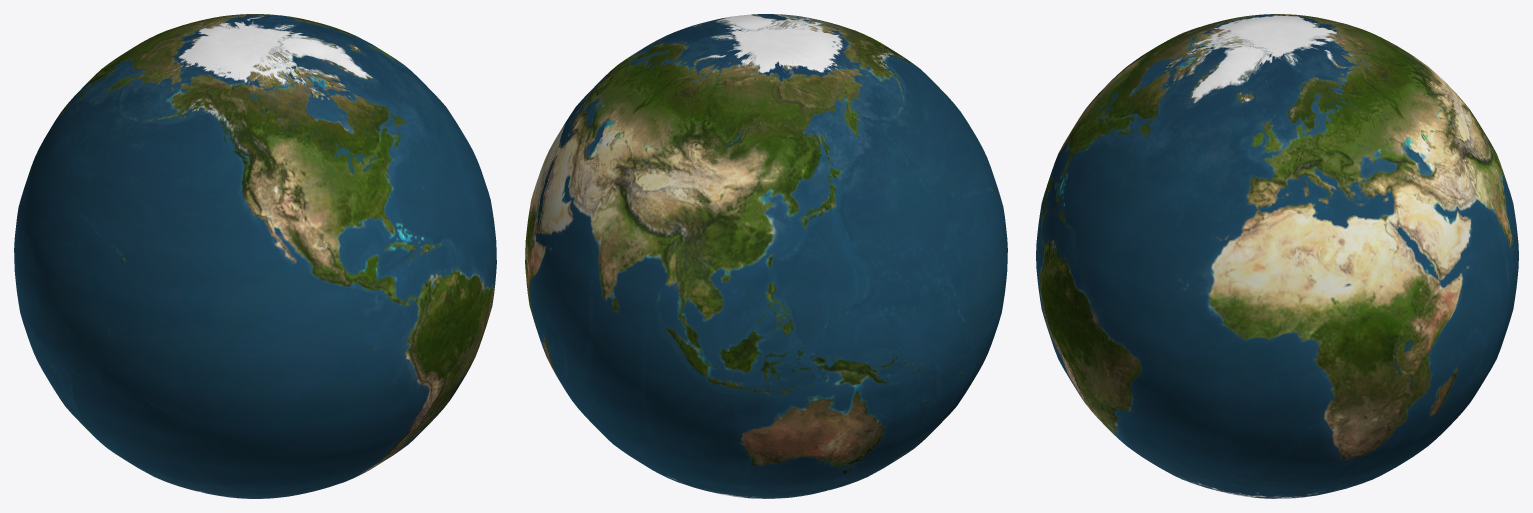
The model's file is world_earth.glb.
3 renders of one model, left to right at view 1: azimuth 30°, elevation 25°; view 2: azimuth 150°, elevation 25°; view 3: azimuth 270°, elevation 25°, orthographic.
Visible parts, largest first — view 1: Esfera; view 2: Esfera; view 3: Esfera.
Part boxes in pixels (bbox=[...]): Esfera: bbox=[14, 14, 496, 498]; Esfera: bbox=[525, 14, 1007, 498]; Esfera: bbox=[1036, 14, 1518, 498].
Size of the model in its own units: 11.63 by 11.52 by 11.61.
Materials: 1 (1 with a texture image).
